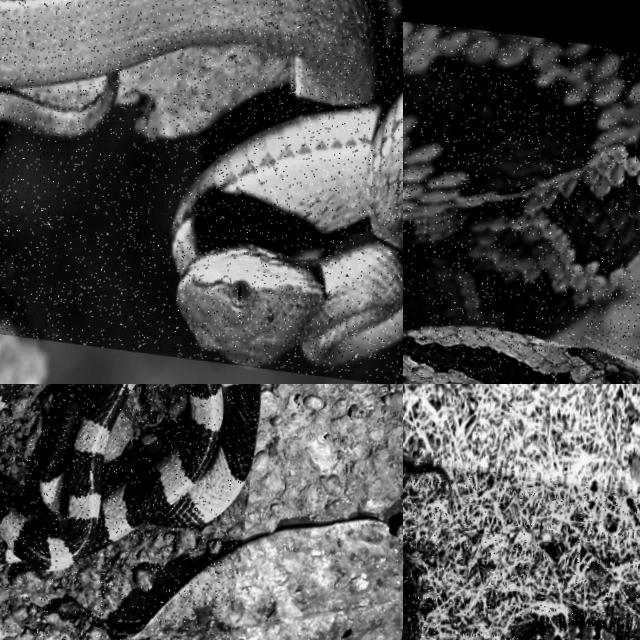Bungarus candidus: (0, 384, 259, 569)
Daboia siamensis: (403, 22, 639, 383), (521, 618, 627, 639)
Trimeresurus: (0, 0, 402, 366)
